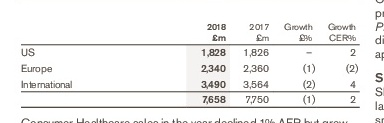table: (0, 0, 384, 123)
